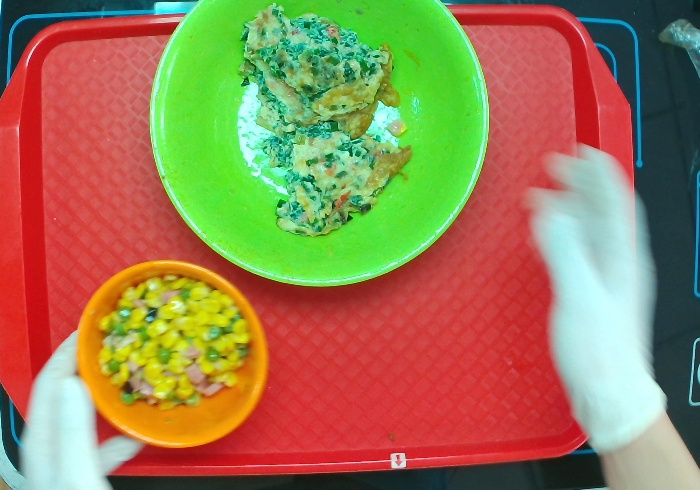YKMZ-Ju_Se_Yuan_Wan: (73, 260, 270, 450)
YKMZ-Lv_Se_Tang_Wan: (151, 1, 491, 286)
